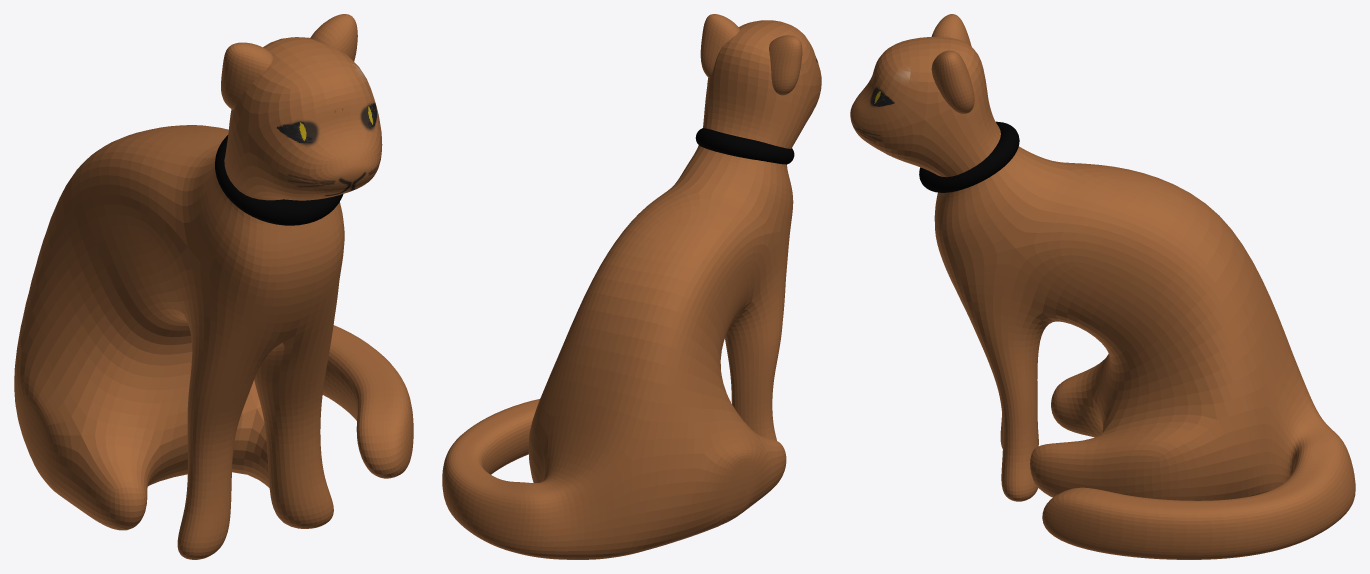
The model's file is Cat.fbx.
3 renders of one model, left to right at view 1: azimuth 30°, elevation 25°; view 2: azimuth 150°, elevation 25°; view 3: azimuth 270°, elevation 25°, orthographic. The views are drawn at different scales.
Parts seen in each view (by area): view 1: Cat Body, Torus, Ear R.001, Ear L.001; view 2: Cat Body, Torus, Ear R.001, Ear L.001; view 3: Cat Body, Torus, Ear L.001, Ear R.001.
Boxes of the visible parts, x1=… form: Cat Body: x1=14, y1=37, x2=413, y2=559; Torus: x1=215, y1=135, x2=343, y2=225; Ear R.001: x1=221, y1=42, x2=272, y2=109; Ear L.001: x1=310, y1=14, x2=357, y2=61; Cat Body: x1=442, y1=20, x2=821, y2=559; Torus: x1=695, y1=128, x2=794, y2=164; Ear R.001: x1=769, y1=35, x2=802, y2=95; Ear L.001: x1=700, y1=14, x2=739, y2=78; Cat Body: x1=850, y1=37, x2=1355, y2=559; Torus: x1=919, y1=121, x2=1019, y2=192; Ear L.001: x1=931, y1=50, x2=974, y2=113; Ear R.001: x1=931, y1=14, x2=971, y2=45.
Size of the model in its own units: 5.15 by 7.58 by 7.73.
2 materials, 1 textured.
